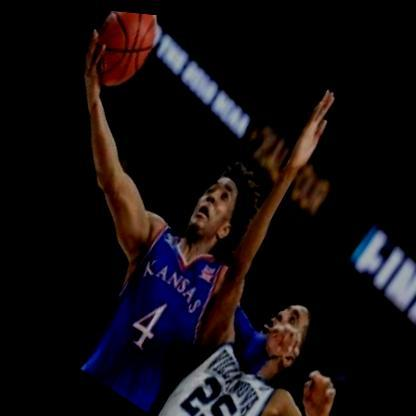basketball: (69, 5, 182, 106)
